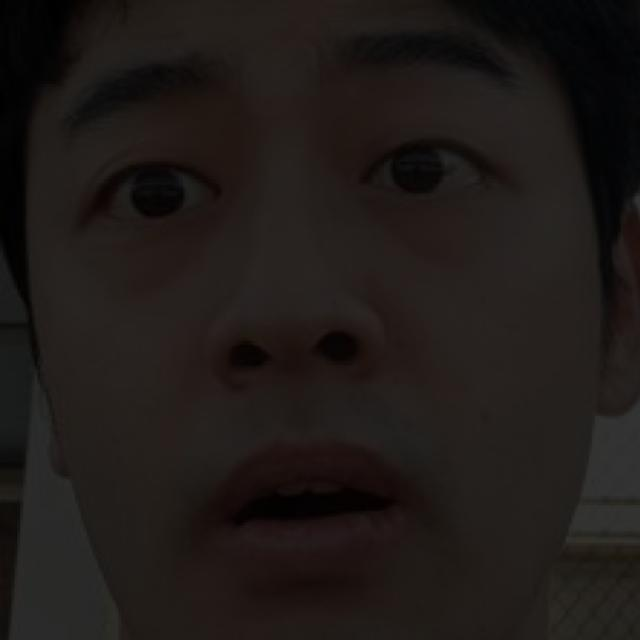Surprised: (45, 22, 555, 626)
